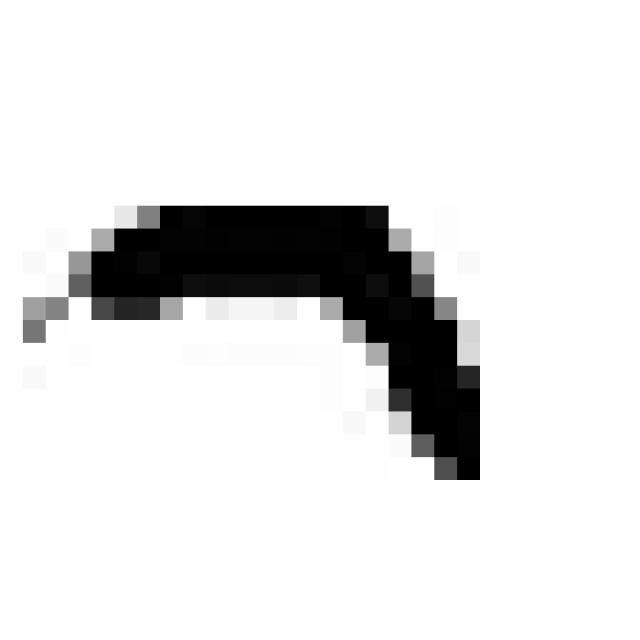0 -zero-: (23, 180, 500, 498)
